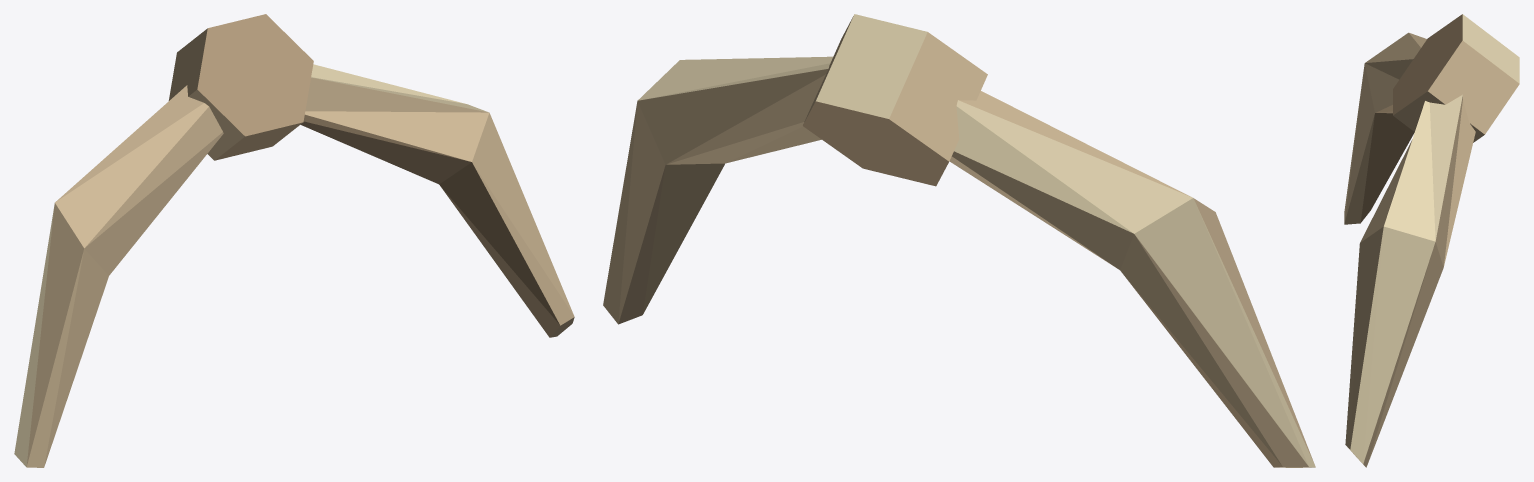
The model's file is TB_D_Env_BoneG_A.FBX.
The picture shows the model from 3 angles, left to right: view 1: azimuth 30°, elevation 25°; view 2: azimuth 150°, elevation 25°; view 3: azimuth 270°, elevation 25°; orthographic projection. The views are drawn at different scales.
Parts seen in each view (by area): view 1: TB_D_Env_BoneG_A; view 2: TB_D_Env_BoneG_A; view 3: TB_D_Env_BoneG_A.
Boxes of the visible parts, x1,y1,x2,y2 form: TB_D_Env_BoneG_A: [14, 14, 574, 467]; TB_D_Env_BoneG_A: [603, 14, 1315, 467]; TB_D_Env_BoneG_A: [1344, 14, 1519, 467].
Size of the model in its own units: 2.03 by 1.19 by 0.5948.
